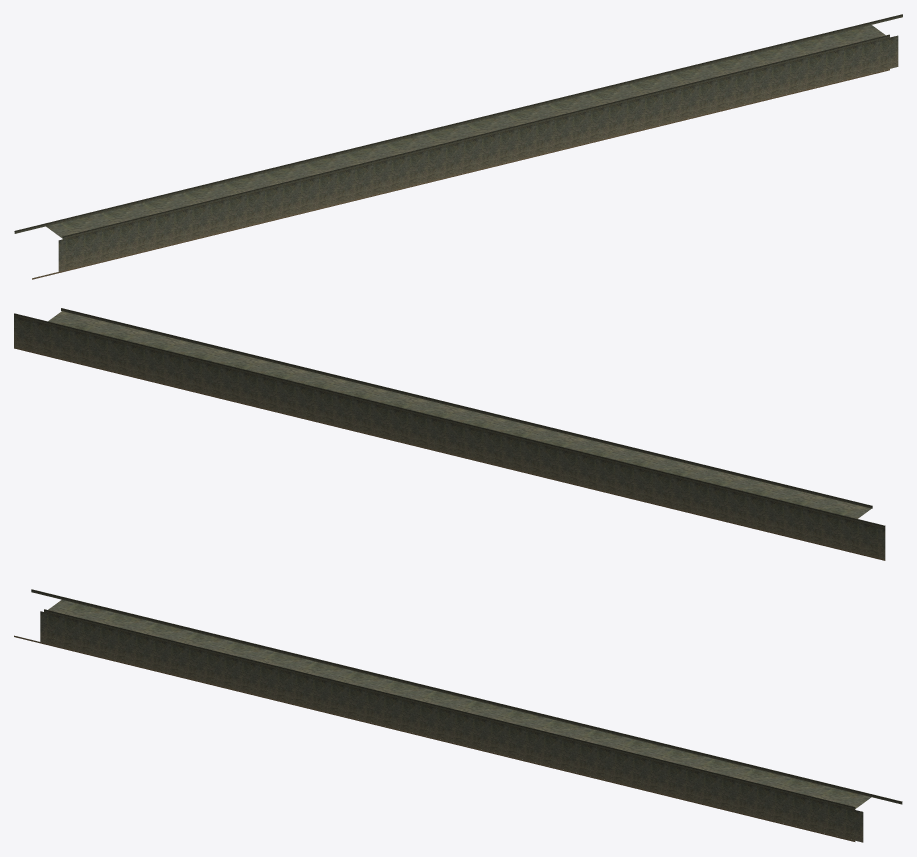
The picture shows the model from 3 angles, top to bottom: view 1: azimuth 30°, elevation 25°; view 2: azimuth 150°, elevation 25°; view 3: azimuth 330°, elevation 25°; orthographic projection.
Visible parts, largest first — view 1: CJ_n_wall01, CJ_n_wall02; view 2: CJ_n_wall01, CJ_n_wall02; view 3: CJ_n_wall01, CJ_n_wall02.
Boxes of the visible parts, left/top/right/bottom form: CJ_n_wall01: left=46, top=25, right=898, bottom=271; CJ_n_wall02: left=14, top=14, right=902, bottom=279; CJ_n_wall01: left=14, top=311, right=885, bottom=559; CJ_n_wall02: left=14, top=308, right=885, bottom=560; CJ_n_wall01: left=40, top=599, right=871, bottom=842; CJ_n_wall02: left=14, top=589, right=902, bottom=841.
Bounding box in the file's own units: 556 × 21.2 × 19.66.
2 materials, 2 textured.
